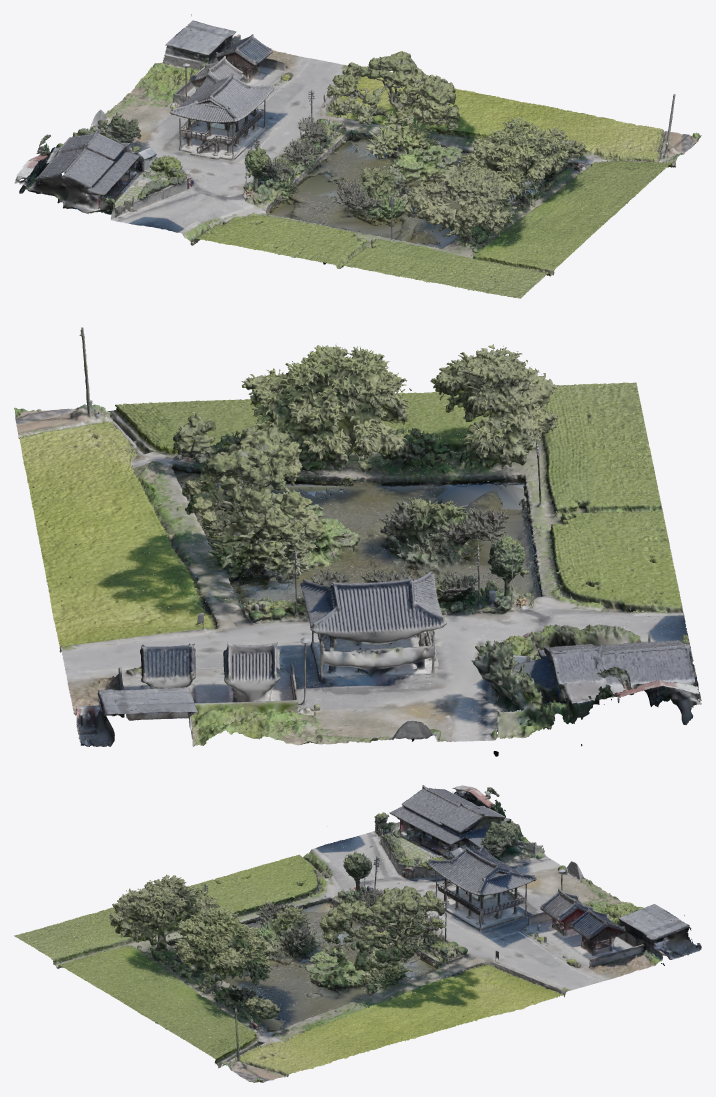
The model's file is bangcho.glb.
3 renders of one model, top to bottom at view 1: azimuth 30°, elevation 25°; view 2: azimuth 150°, elevation 25°; view 3: azimuth 270°, elevation 25°, orthographic. The views are drawn at different scales.
Visible parts, largest first — view 1: Object_3, Object_5, Object_11, Object_6, Object_4, Object_2, Object_12, Object_9, Object_8, Object_10, Object_13, Object_14 (+1 smaller); view 2: Object_2, Object_3, Object_6, Object_5, Object_4, Object_11, Object_9, Object_14, Object_8, Object_12, Object_13, Object_7 (+1 smaller); view 3: Object_2, Object_5, Object_3, Object_4, Object_11, Object_14, Object_8, Object_12, Object_6, Object_13, Object_9, Object_10 (+1 smaller).
Boxes of the visible parts, box(x1,y1,x2,y2) form: Object_3: box(133, 27, 392, 219); Object_5: box(402, 122, 684, 296); Object_11: box(53, 35, 496, 229); Object_6: box(69, 112, 575, 279); Object_4: box(26, 55, 565, 240); Object_2: box(272, 51, 625, 186); Object_12: box(142, 14, 358, 209); Object_9: box(184, 163, 523, 298); Object_8: box(402, 94, 701, 243); Object_10: box(384, 164, 570, 289); Object_13: box(282, 53, 460, 182); Object_14: box(382, 54, 610, 169); Object_2: box(24, 430, 393, 690); Object_3: box(58, 533, 546, 745); Object_6: box(159, 385, 673, 756); Object_5: box(23, 351, 648, 552); Object_4: box(191, 349, 699, 746); Object_11: box(78, 351, 698, 746); Object_9: box(338, 382, 683, 613); Object_14: box(26, 426, 328, 618); Object_8: box(14, 327, 429, 552); Object_12: box(68, 562, 500, 745); Object_13: box(55, 458, 416, 676); Object_7: box(243, 345, 701, 746); Object_2: box(266, 887, 616, 1064); Object_5: box(19, 877, 338, 1070); Object_3: box(302, 845, 674, 1006); Object_4: box(173, 788, 618, 988); Object_11: box(117, 785, 701, 1020); Object_14: box(319, 890, 520, 1060); Object_8: box(95, 933, 321, 1082); Object_12: box(321, 848, 701, 977); Object_6: box(43, 809, 567, 1008); Object_13: box(324, 885, 598, 1015); Object_9: box(14, 851, 317, 989); Object_10: box(25, 874, 259, 981).
Size of the model in its own units: 81.69 by 13.33 by 85.98.
